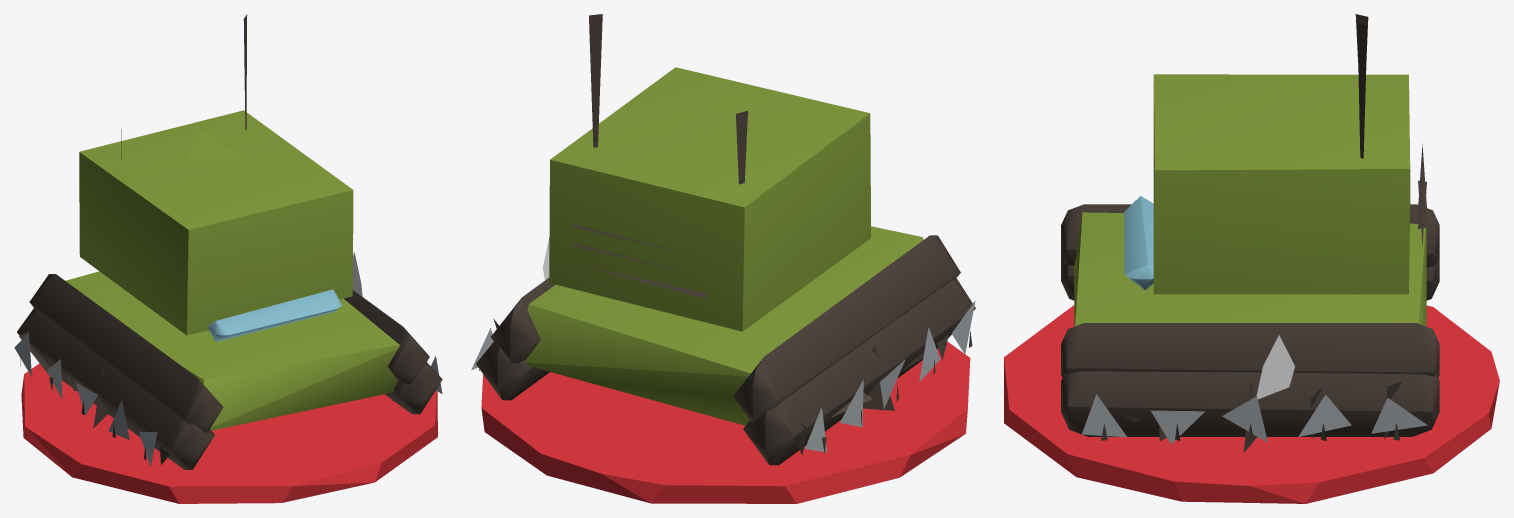
Rendered from usa_headquarters_lod1.glb.
The picture shows the model from 3 angles, left to right: view 1: azimuth 30°, elevation 25°; view 2: azimuth 150°, elevation 25°; view 3: azimuth 270°, elevation 25°; orthographic projection. The views are drawn at different scales.
Parts seen in each view (by area): view 1: body_hull, base_pedestal; view 2: body_hull, base_pedestal; view 3: body_hull, base_pedestal.
Part boxes in pixels (x1,y1,x2,y2): body_hull: (14, 14, 442, 469); base_pedestal: (21, 363, 437, 503); body_hull: (471, 14, 975, 465); base_pedestal: (481, 341, 970, 503); body_hull: (1061, 14, 1439, 452); base_pedestal: (1004, 305, 1499, 503).
Bounding box in the file's own units: 0.7751 × 0.7101 × 0.7751.
